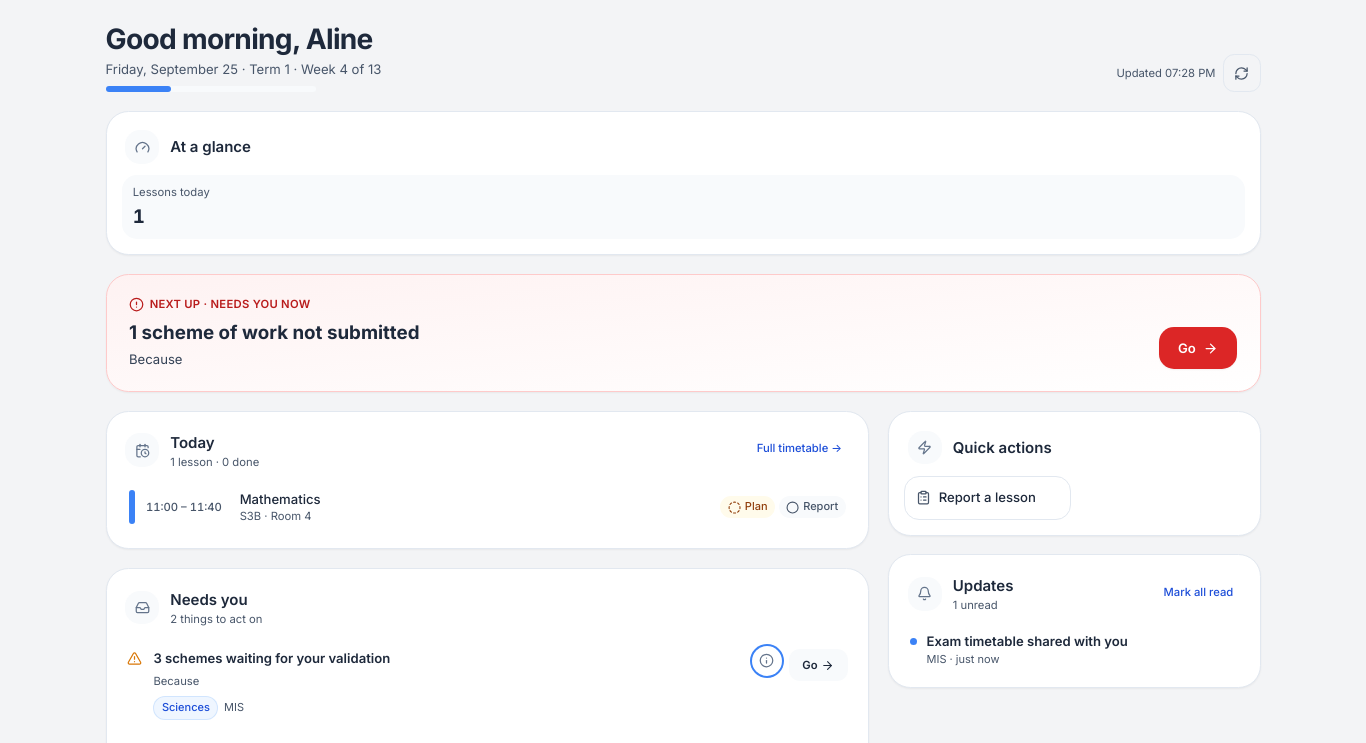
Home › closes the explanation with Escape and keeps focus on its button
Check: the text "3 schemes waiting for your validation" is shown, box [153,649,390,668]
Click the button named "Why am I seeing this?" in the row of "3 schemes waiting for your validation" at (767, 661), box [752,646,782,676]
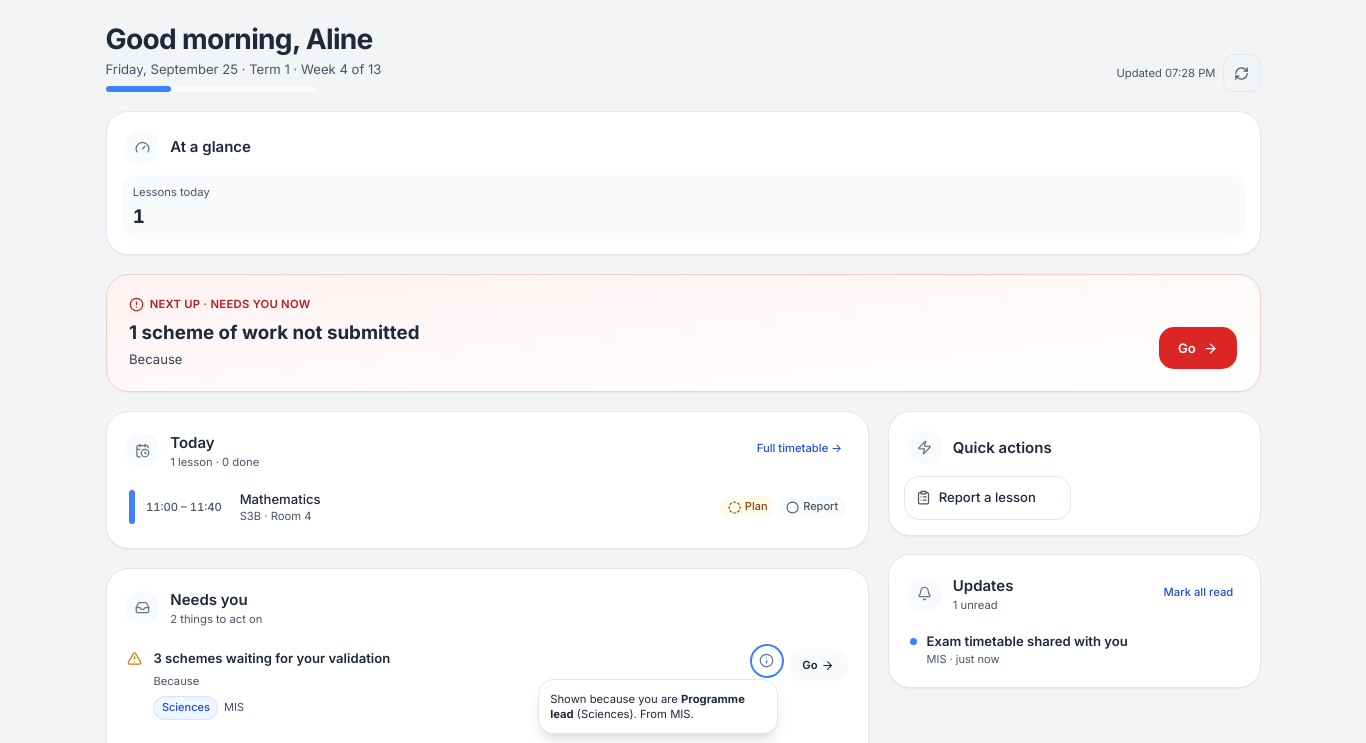
Check: the tooltip "Shown because you are Programme lead (Sciences). From MIS." is shown, box [538,679,778,734]
Press Escape in the button named "Why am I seeing this?" in the row of "3 schemes waiting for your validation", box [752,646,782,676]
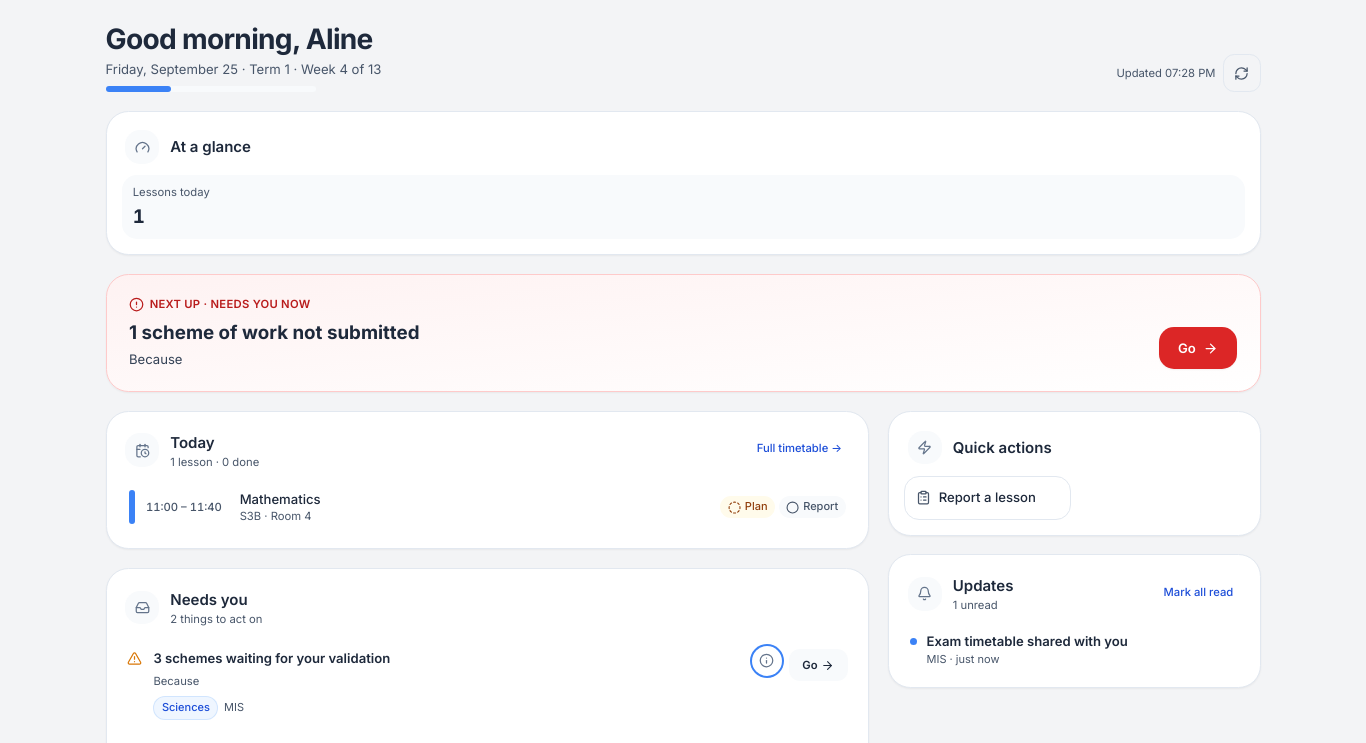
Check: the tooltip "Shown because you are Programme lead (Sciences). From MIS." is gone
